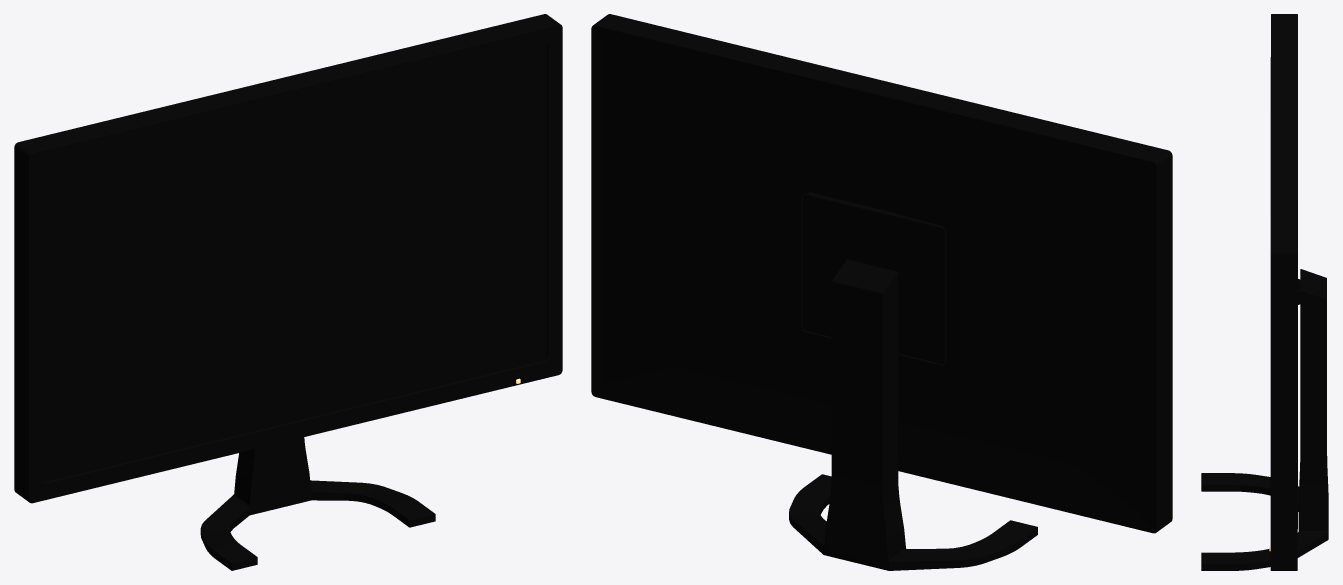
File: bk_monitor.glb
3 views of the same model, side by side, from view 1: azimuth 30°, elevation 25°; view 2: azimuth 150°, elevation 25°; view 3: azimuth 270°, elevation 25° (orthographic). The views are drawn at different scales.
Parts seen in each view (by area): view 1: Cube.002, Cube, Cube.001; view 2: Cube, Cube.001; view 3: Cube, Cube.001.
Boxes of the visible parts, <box> form: Cube.002: <box>43,45,546,481</box>; Cube: <box>14,14,562,503</box>; Cube.001: <box>200,437,435,570</box>; Cube: <box>591,14,1172,533</box>; Cube.001: <box>789,259,1037,570</box>; Cube: <box>1269,14,1300,570</box>; Cube.001: <box>1201,269,1328,570</box>.
Size of the model in its own units: 0.6355 by 0.4897 by 0.1435.
3 materials, 3 textured.
